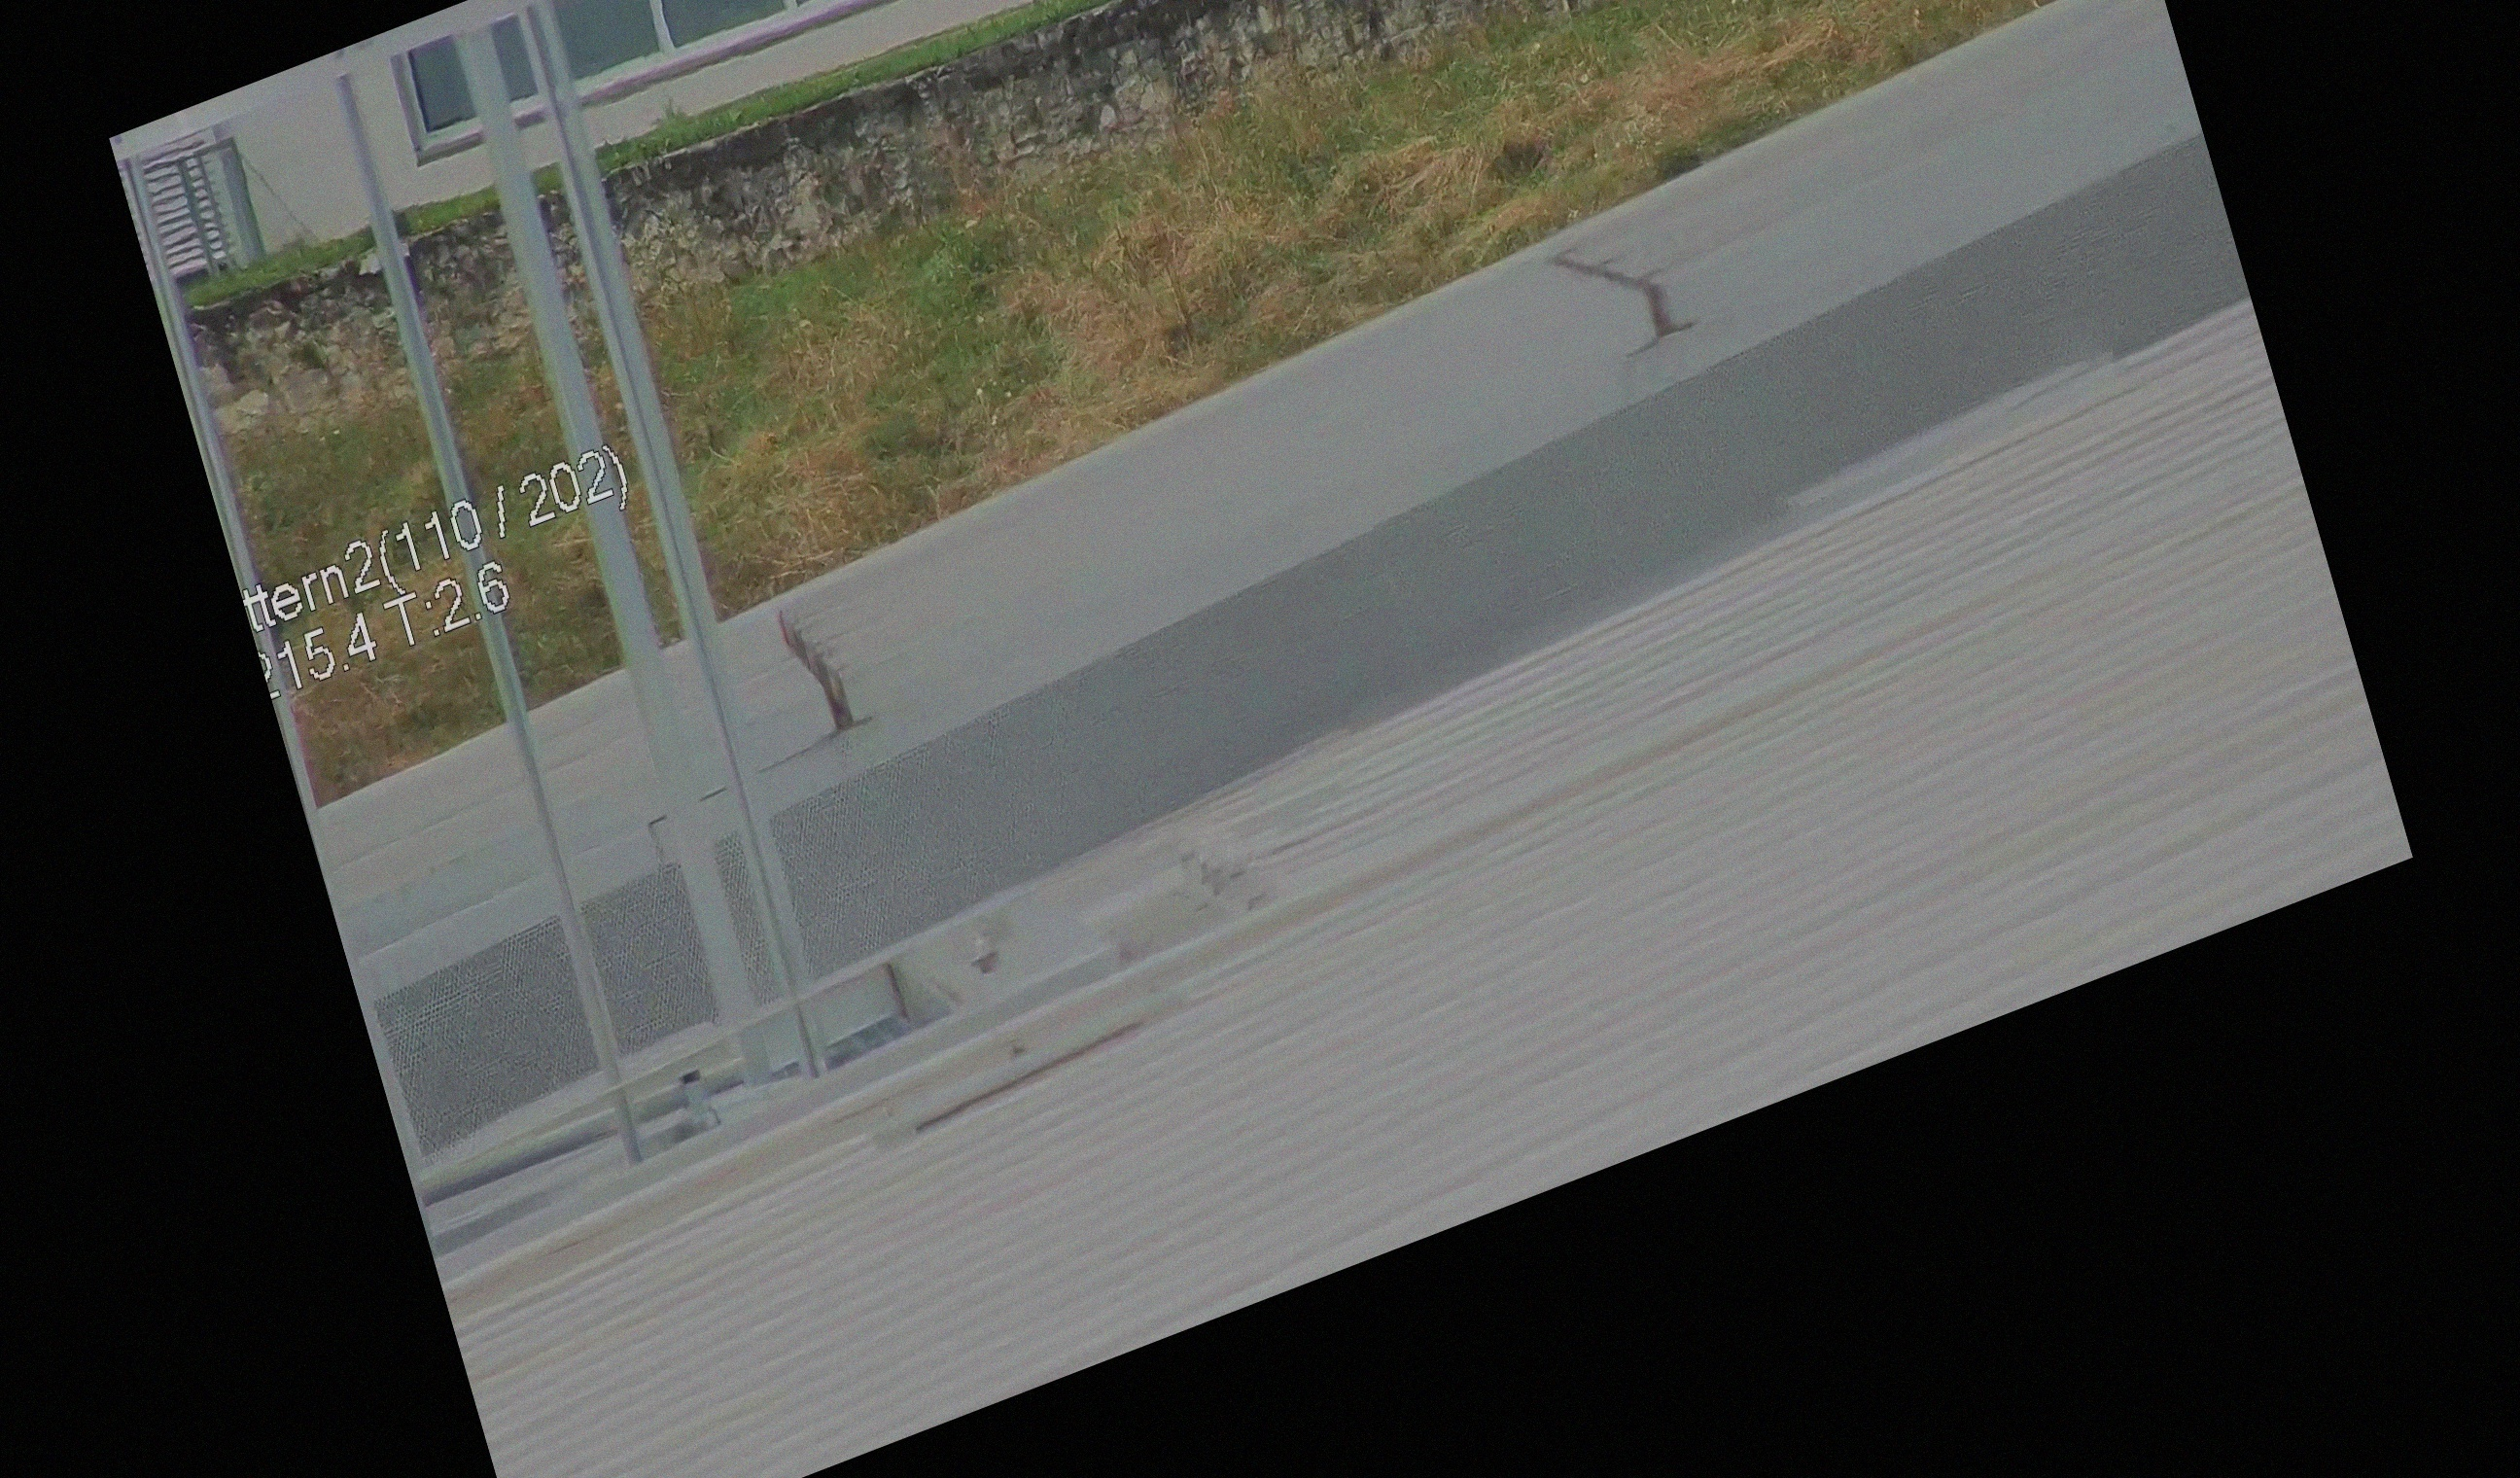Other: (739, 568, 874, 764)
